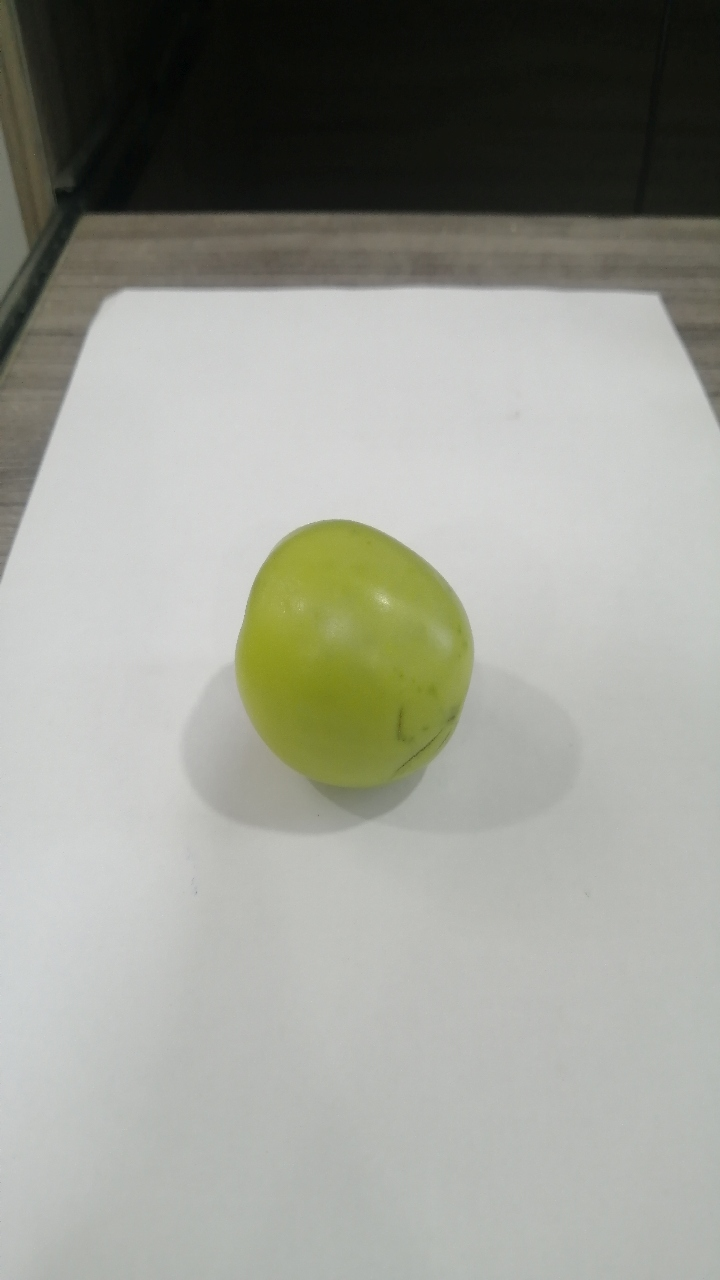tomateVerde: (206, 495, 506, 803)
